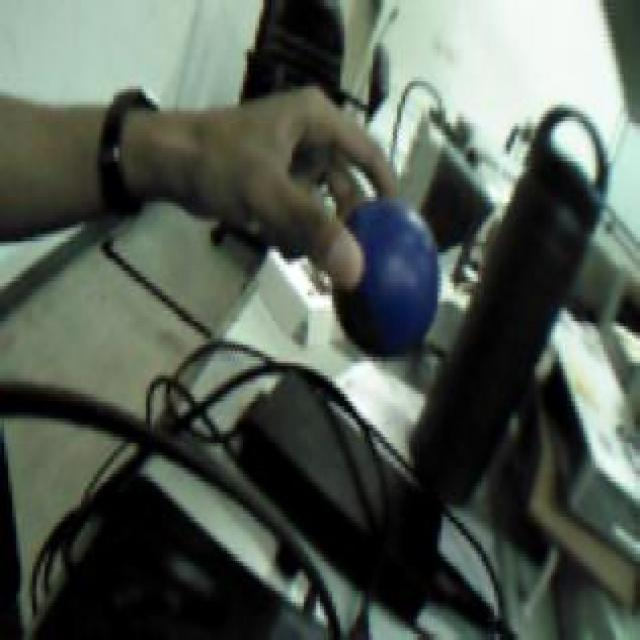BallPurple: (330, 200, 440, 357)
